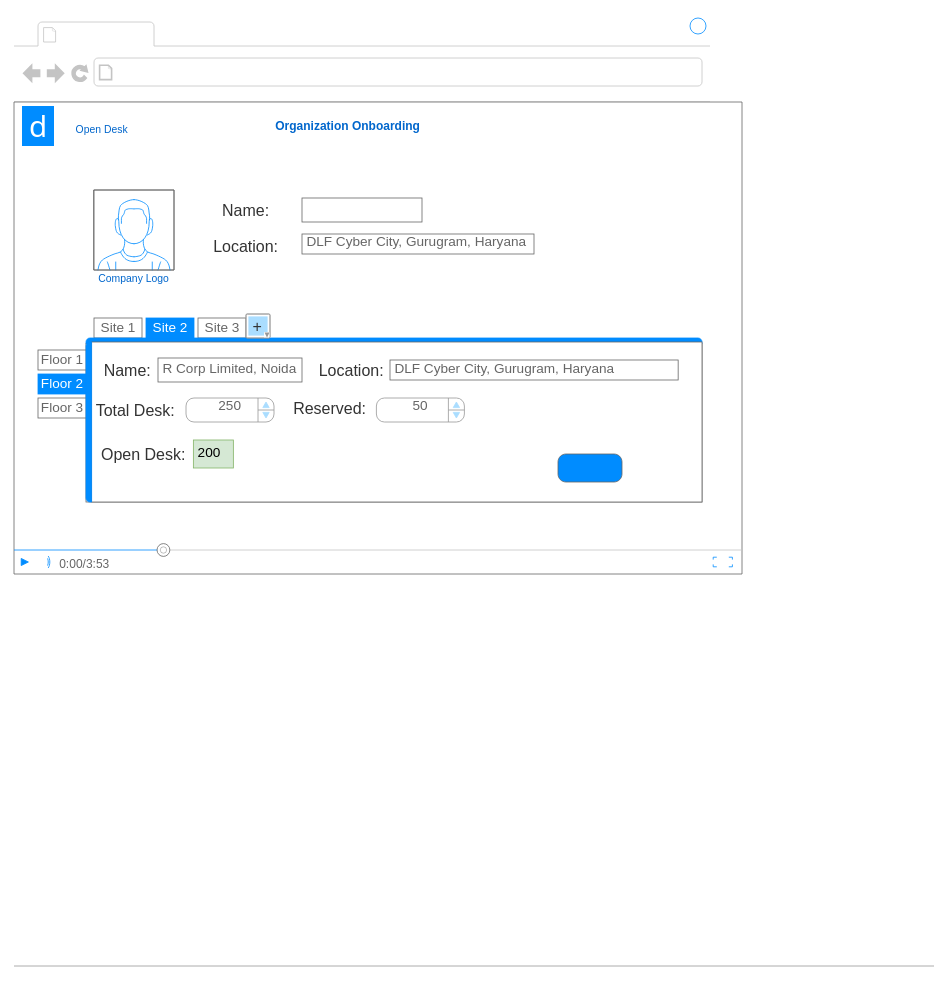
Image size: 948x988. Some labels were removed from this diagram. The shapes that lost their labels are listed below. From the top down, each one's box as (x1, y1, x2, y2) in pixels, then its label:
(61, 23, 150, 44): Page 1
(117, 61, 318, 83): https://opendesk.com
(301, 197, 422, 222): R Corp Limited
(557, 453, 622, 482): Save
